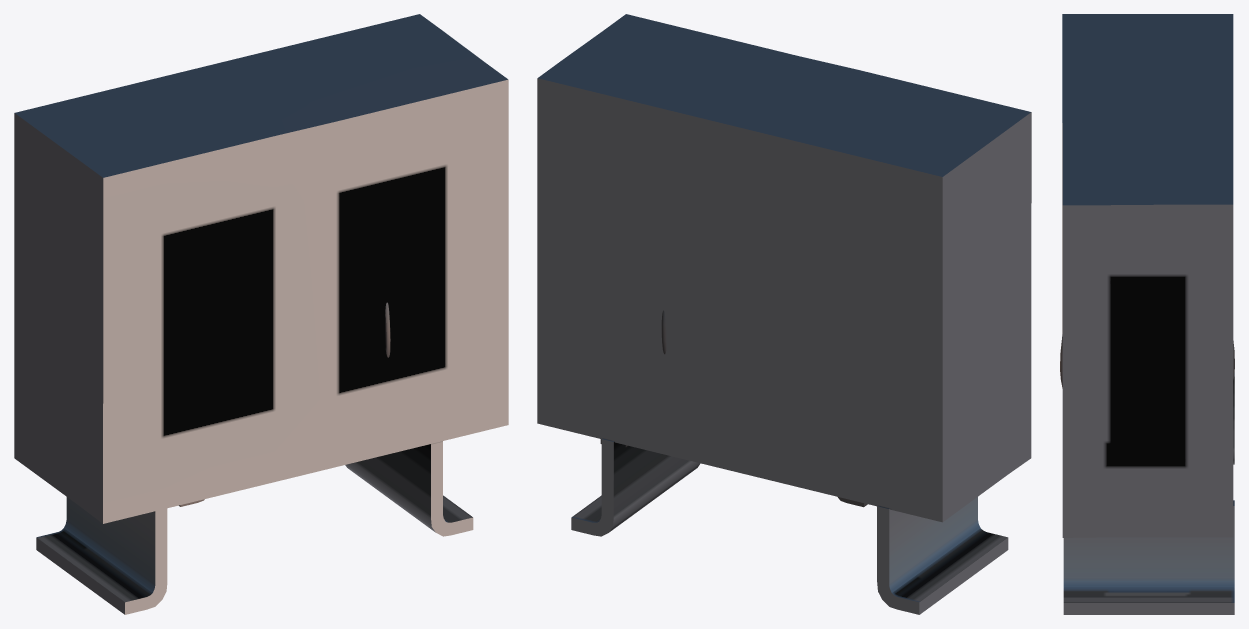
The model's file is dianzi_2.glb.
3 views of the same model, side by side, from view 1: azimuth 30°, elevation 25°; view 2: azimuth 150°, elevation 25°; view 3: azimuth 270°, elevation 25° (orthographic). The views are drawn at different scales.
Parts seen in each view (by area): view 1: 立方体_1; view 2: 立方体_1; view 3: 立方体_1.
Boxes of the visible parts, x1,y1,x2,y2 form: 立方体_1: (14,14,508,614); 立方体_1: (537,14,1031,614); 立方体_1: (1062,14,1234,614).
Bounding box in the file's own units: 3.18 × 3.32 × 1.23.
2 materials, 2 textured.
